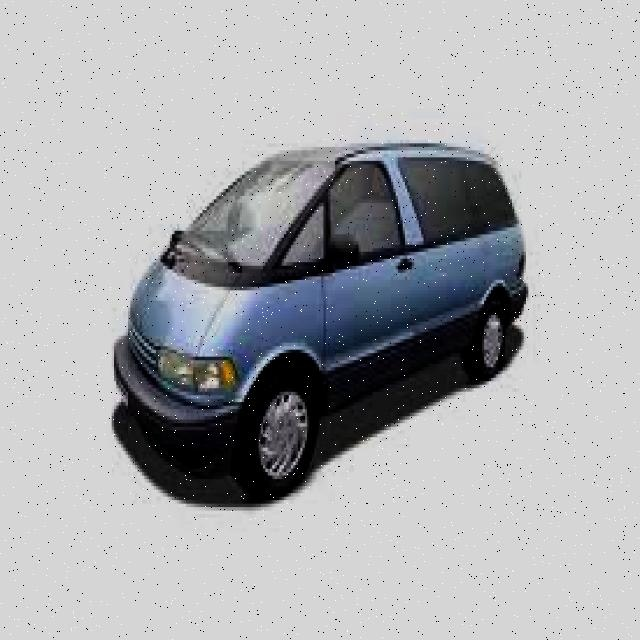Van: (112, 144, 528, 504)
